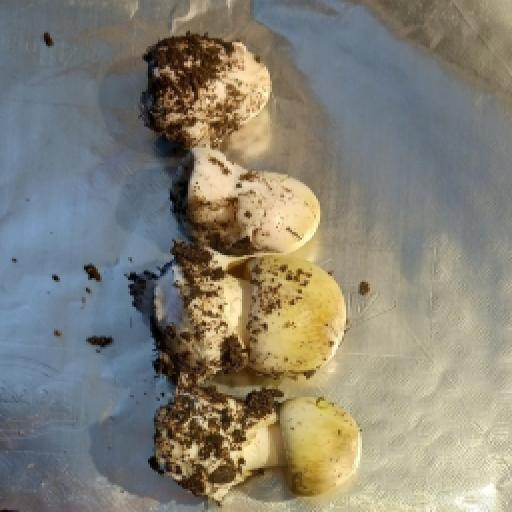mushroom: (108, 24, 368, 509)
